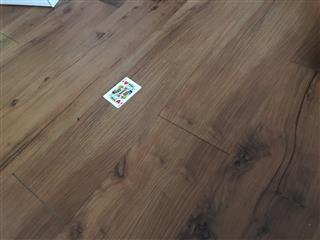KingOfHearts: (102, 76, 142, 108)
